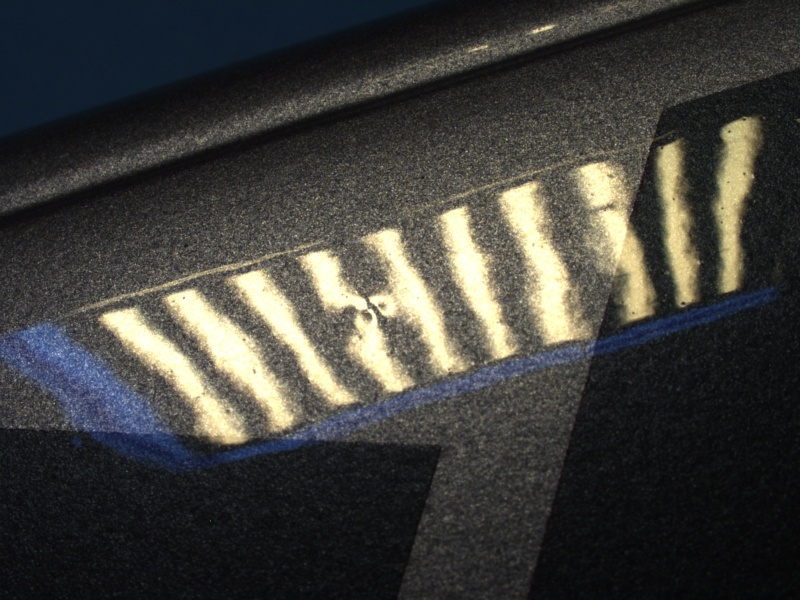bad: (340, 278, 409, 343)
